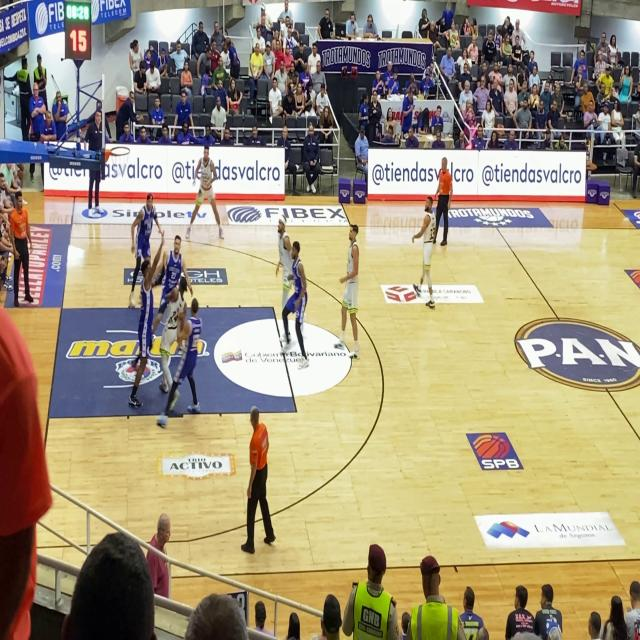referee: (237, 396, 280, 560), (8, 175, 36, 303), (432, 144, 456, 256)
team1: (191, 138, 224, 261), (335, 220, 363, 360), (408, 194, 438, 322), (161, 267, 185, 393), (267, 206, 297, 304)
team2: (120, 242, 157, 421), (176, 295, 206, 427), (283, 233, 311, 366), (131, 182, 156, 274), (162, 230, 184, 301)
ubasket: (110, 144, 132, 168)
